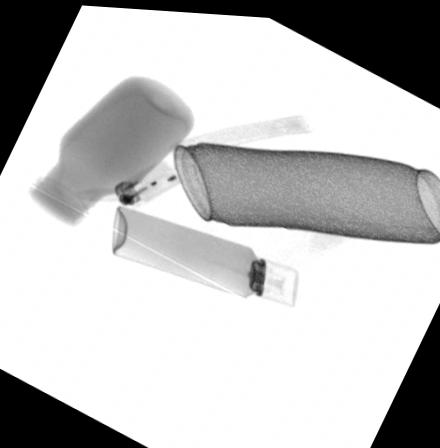Lighter: (111, 158, 184, 204)
Sprayer: (112, 204, 298, 303)
